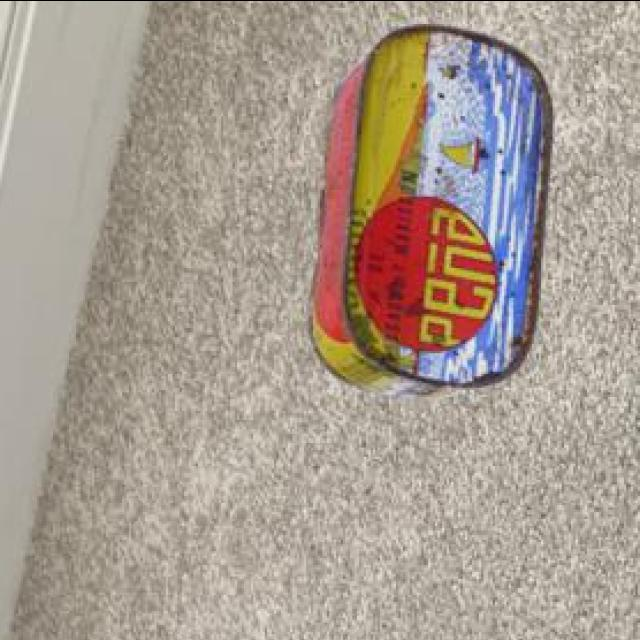logam: (305, 29, 549, 402)
